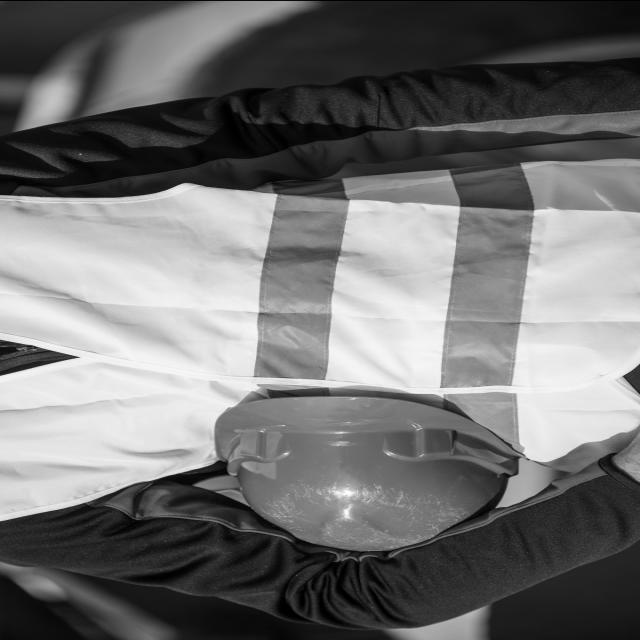safety_helmet: (214, 389, 522, 554)
